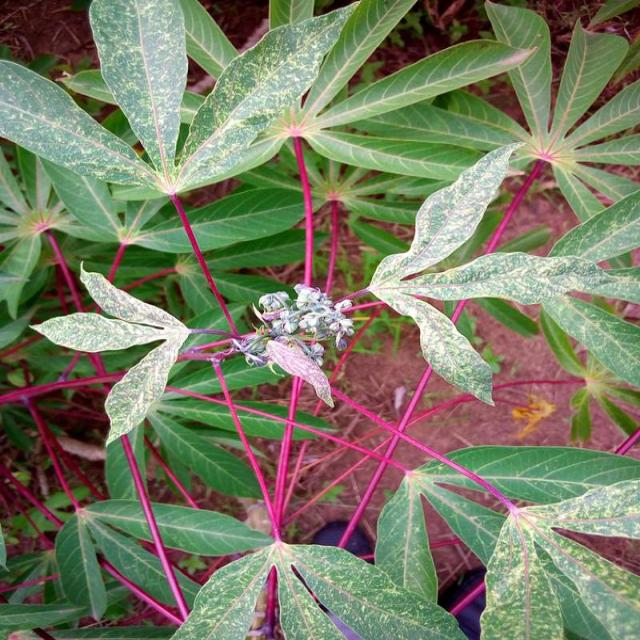cassava leaf: (0, 0, 638, 638), (400, 443, 638, 638), (174, 2, 356, 196)
